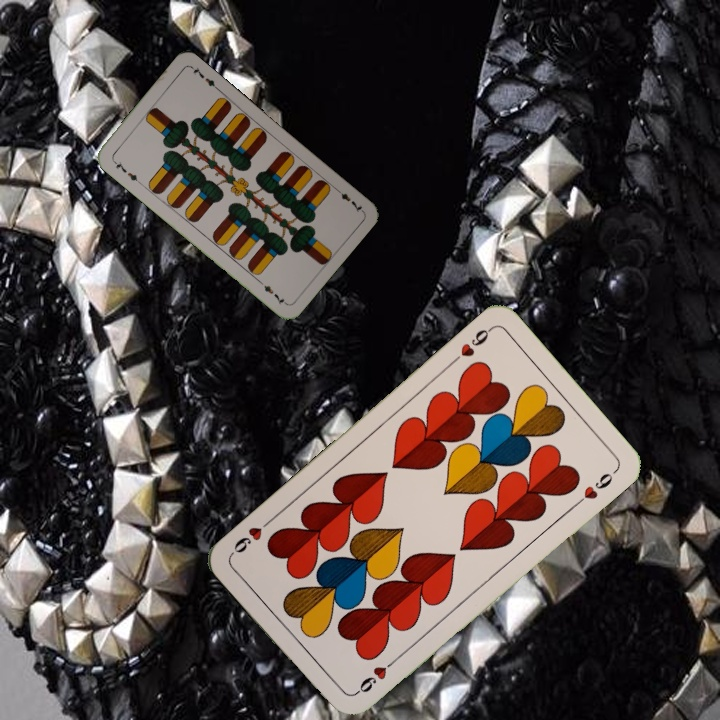E7: (331, 184, 365, 215), (109, 156, 142, 186)
H9: (447, 323, 495, 367), (350, 655, 399, 698)
